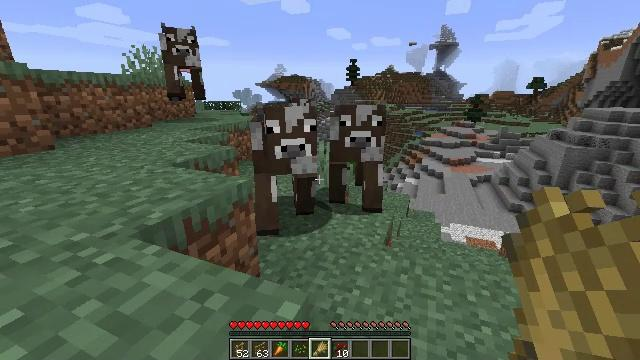cow: (256, 102, 319, 234), (330, 103, 387, 214), (158, 24, 207, 99)
